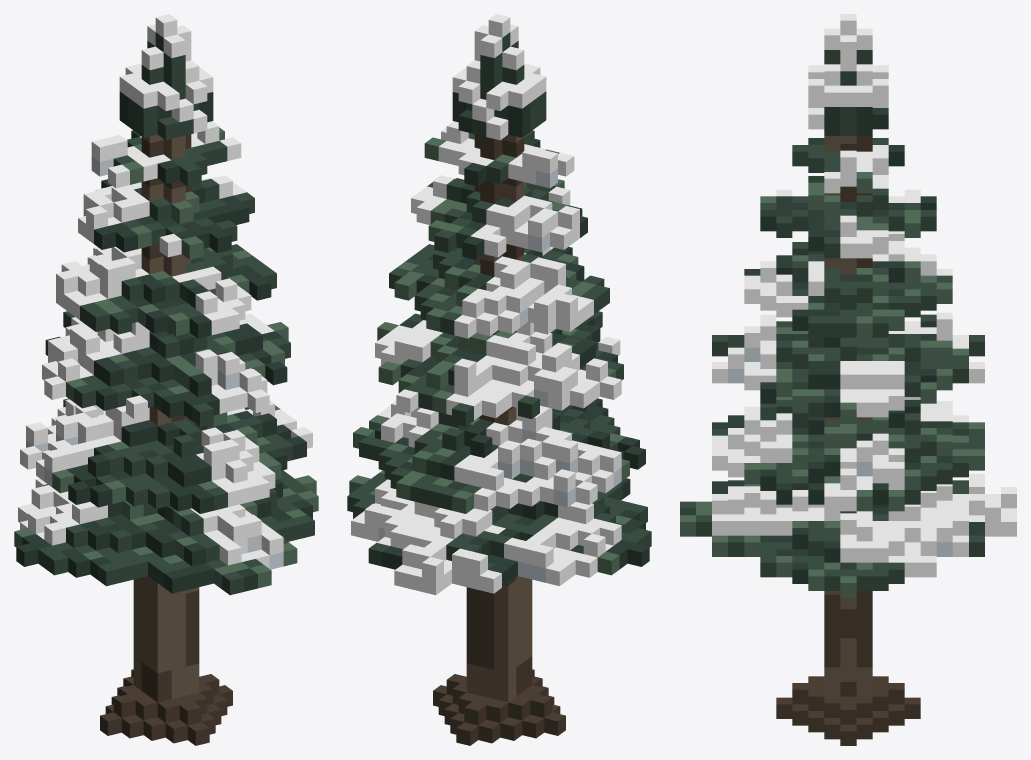
File: SM_VoxelPine_Tree04R.glb
3 renders of one model, left to right at view 1: azimuth 30°, elevation 25°; view 2: azimuth 150°, elevation 25°; view 3: azimuth 270°, elevation 25°, orthographic.
Visible parts, largest first — view 1: SM_VoxelPine_Tree04R; view 2: SM_VoxelPine_Tree04R; view 3: SM_VoxelPine_Tree04R.
Boxes of the visible parts, x1=… form: SM_VoxelPine_Tree04R: x1=14, y1=14, x2=318, y2=745; SM_VoxelPine_Tree04R: x1=347, y1=14, x2=651, y2=745; SM_VoxelPine_Tree04R: x1=680, y1=14, x2=1016, y2=745.
Bounding box in the file's own units: 4.2 × 9.6 × 4.2.
1 material, 1 textured.
